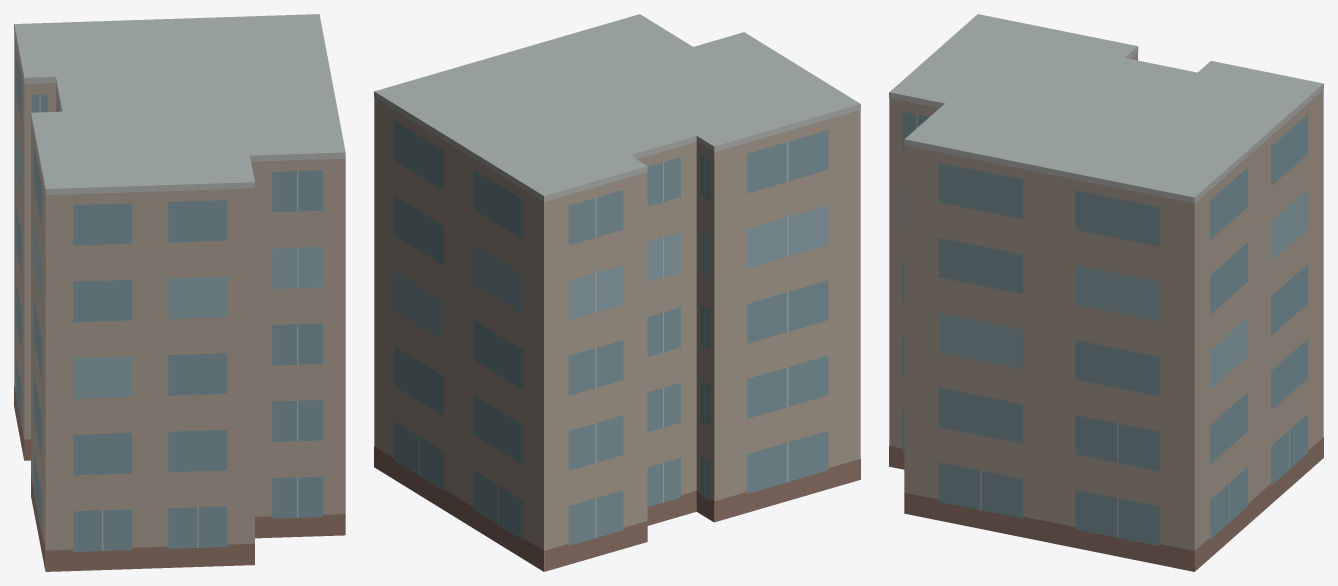
Rendered from survey-upis-32963984.glb.
3 renders of one model, left to right at view 1: azimuth 30°, elevation 25°; view 2: azimuth 150°, elevation 25°; view 3: azimuth 270°, elevation 25°, orthographic. The views are drawn at different scales.
Visible parts, largest first — view 1: survey-upis-32963984.tmp; view 2: survey-upis-32963984.tmp; view 3: survey-upis-32963984.tmp.
Part boxes in pixels (left/top/right/bottom): survey-upis-32963984.tmp: left=14, top=14, right=345, bottom=571; survey-upis-32963984.tmp: left=374, top=14, right=860, bottom=571; survey-upis-32963984.tmp: left=889, top=14, right=1323, bottom=571.
Size of the model in its own units: 16.21 by 15.4 by 16.22.
